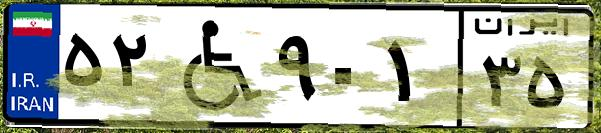0: (330, 28, 385, 110)
1: (385, 28, 445, 110)
2: (110, 28, 158, 98)
3: (475, 38, 525, 113)
5: (57, 26, 110, 100), (525, 38, 570, 115)
9: (270, 28, 330, 110)
ژ (معلولین و جانبازان): (158, 12, 270, 120)
